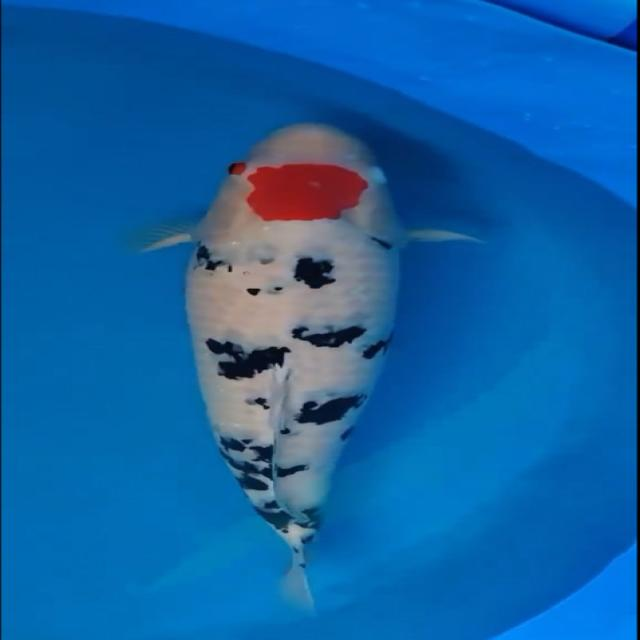Sanke: (136, 120, 483, 614)
